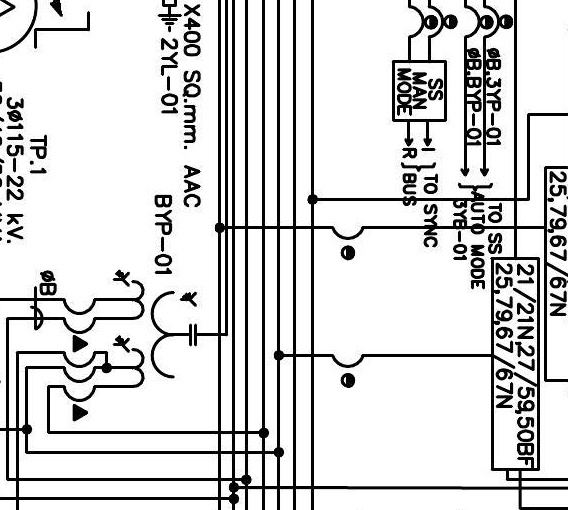115_cvt_3p: (112, 269, 197, 389)
ss_man_mode: (391, 59, 448, 122)
